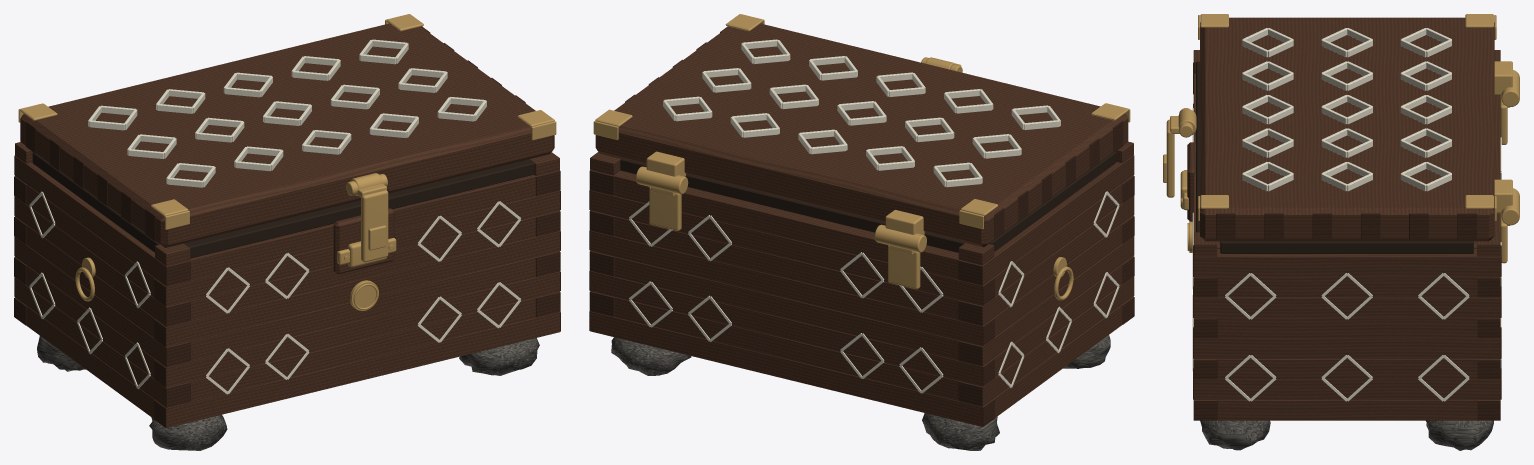
File: slovakia.glb
3 renders of one model, left to right at view 1: azimuth 30°, elevation 25°; view 2: azimuth 150°, elevation 25°; view 3: azimuth 270°, elevation 25°, orthographic.
Parts seen in each view (by area): view 1: Lid / polished slab, Timber / front course 0, Timber / front course 4, Timber / front course 2, Timber / front course 3, Timber / front course 1, Timber / front course 6, Timber / front course 7, Timber / front course 5, Mineral seam / long, Timber / side course 7, Timber / side course 3 (+14 smaller); view 2: Lid / polished slab, Timber / rear course 0, Timber / rear course 4, Timber / rear course 2, Timber / rear course 7, Timber / rear course 3, Timber / rear course 5, Timber / rear course 1, Timber / rear course 6, Timber / side course 7, Mineral seam / long.001, Timber / side course 3 (+18 smaller); view 3: Lid / polished slab, Timber / side course 7.001, Timber / side course 3.001, Timber / side course 5.001, Timber / side course 1.001, Timber / side course 0.001, Timber / side course 4.001, Timber / side course 2.001, Timber / side course 6.001, Mineral seam / side.001, Granite foot.002, Granite foot.003 (+28 smaller).
Part boxes in pixels (x1=…): Lid / polished slab: x1=20, y1=23, x2=554, y2=247; Timber / front course 0: x1=155, y1=312, x2=559, y2=427; Timber / front course 4: x1=155, y1=231, x2=559, y2=347; Timber / front course 2: x1=155, y1=271, x2=559, y2=387; Timber / front course 3: x1=190, y1=257, x2=535, y2=361; Timber / front course 1: x1=190, y1=297, x2=535, y2=401; Timber / front course 6: x1=155, y1=190, x2=559, y2=306; Timber / front course 7: x1=190, y1=175, x2=535, y2=280; Timber / front course 5: x1=190, y1=217, x2=535, y2=320; Mineral seam / long: x1=184, y1=159, x2=534, y2=258; Timber / side course 7: x1=14, y1=155, x2=189, y2=286; Timber / side course 3: x1=14, y1=237, x2=189, y2=367; Lid / polished slab: x1=595, y1=23, x2=1128, y2=247; Timber / rear course 0: x1=590, y1=311, x2=993, y2=426; Timber / rear course 4: x1=590, y1=230, x2=993, y2=346; Timber / rear course 2: x1=590, y1=271, x2=993, y2=386; Timber / rear course 7: x1=614, y1=171, x2=958, y2=279; Timber / rear course 3: x1=614, y1=256, x2=958, y2=360; Timber / rear course 5: x1=614, y1=216, x2=958, y2=319; Timber / rear course 1: x1=614, y1=297, x2=958, y2=400; Timber / rear course 6: x1=590, y1=190, x2=993, y2=305; Timber / side course 7: x1=959, y1=155, x2=1133, y2=285; Mineral seam / long.001: x1=620, y1=159, x2=964, y2=252; Timber / side course 3: x1=959, y1=236, x2=1133, y2=365; Lid / polished slab: x1=1200, y1=17, x2=1494, y2=241; Timber / side course 7.001: x1=1193, y1=249, x2=1500, y2=277; Timber / side course 3.001: x1=1194, y1=338, x2=1500, y2=358; Timber / side course 5.001: x1=1194, y1=297, x2=1500, y2=318; Timber / side course 1.001: x1=1194, y1=379, x2=1500, y2=399; Timber / side course 0.001: x1=1217, y1=400, x2=1477, y2=420; Timber / side course 4.001: x1=1217, y1=318, x2=1477, y2=338; Timber / side course 2.001: x1=1217, y1=359, x2=1477, y2=379; Timber / side course 6.001: x1=1217, y1=277, x2=1477, y2=297; Mineral seam / side.001: x1=1220, y1=241, x2=1473, y2=253; Granite foot.002: x1=1200, y1=420, x2=1270, y2=450; Granite foot.003: x1=1426, y1=420, x2=1493, y2=450.
Bounding box in the file's own units: 3.8 × 2.34 × 2.88.
Materials: 6 (3 with a texture image).
